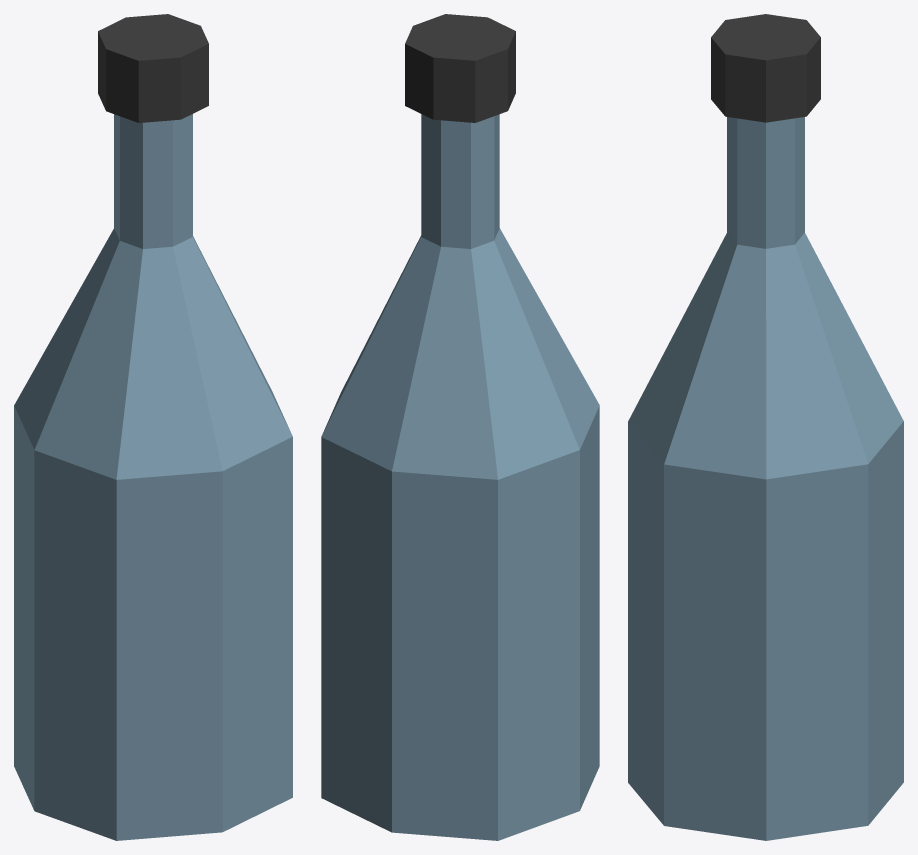
File: Bottle_3.fbx
3 views of the same model, side by side, from view 1: azimuth 30°, elevation 25°; view 2: azimuth 150°, elevation 25°; view 3: azimuth 270°, elevation 25° (orthographic).
Visible parts, largest first — view 1: Bottle_3; view 2: Bottle_3; view 3: Bottle_3.
Part boxes in pixels (x1,y1,x2,y2): Bottle_3: (14, 14, 292, 840); Bottle_3: (321, 14, 599, 840); Bottle_3: (628, 14, 903, 840).
Bounding box in the file's own units: 18.68 × 18.68 × 55.73.
